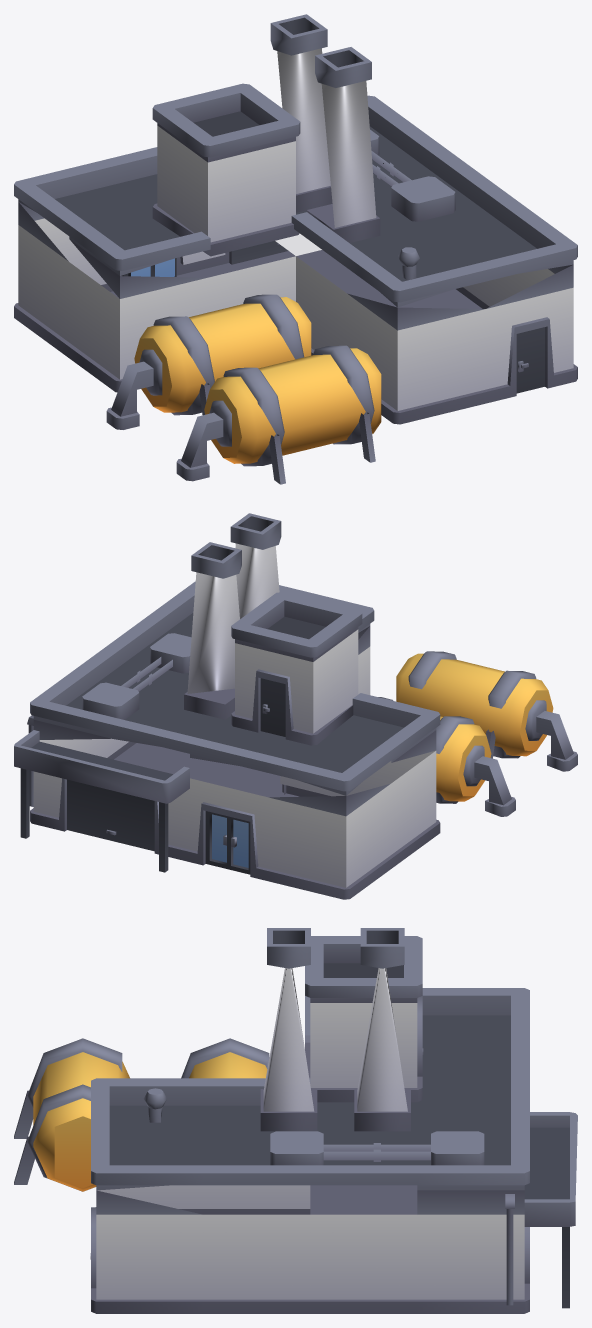
Rendered from works-c.glb.
3 views of the same model, one above another, from view 1: azimuth 30°, elevation 25°; view 2: azimuth 150°, elevation 25°; view 3: azimuth 270°, elevation 25° (orthographic). The views are drawn at different scales.
Parts seen in each view (by area): view 1: building-c; view 2: building-c; view 3: building-c.
Part boxes in pixels (<box>): building-c: <box>14,14,577,484</box>; building-c: <box>14,513,577,899</box>; building-c: <box>14,928,577,1313</box>.
Size of the model in its own units: 1.87 by 1.25 by 2.11.
Materials: 1 (1 with a texture image).
